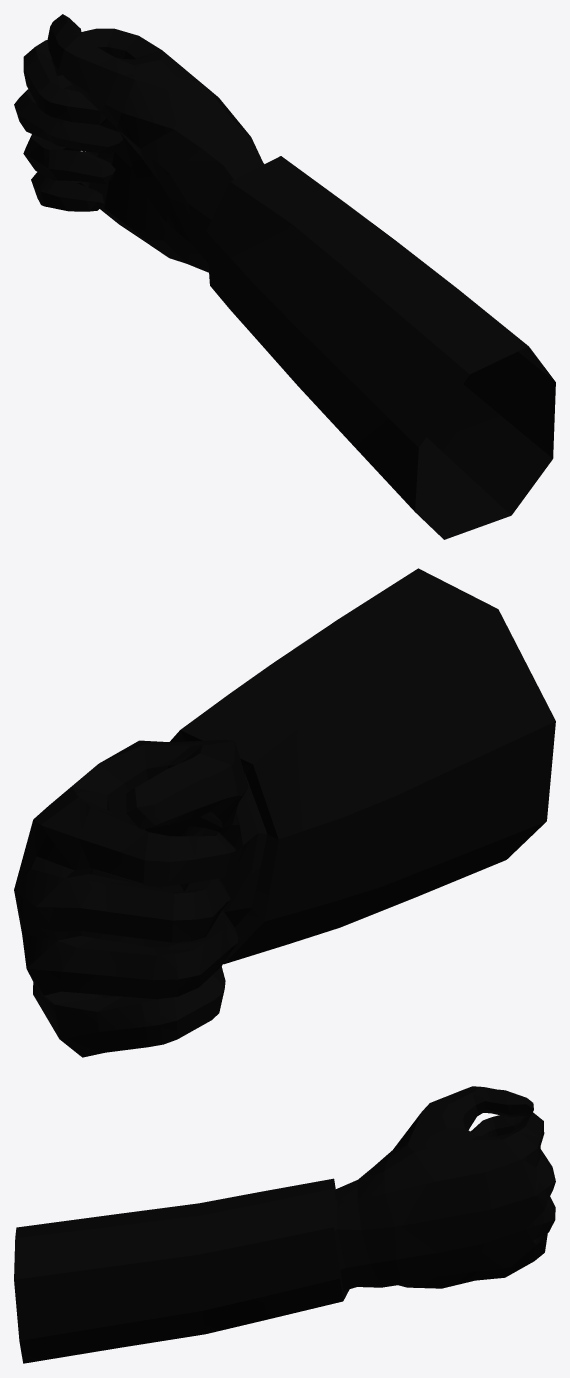
File: HandAxe.obj
3 views of the same model, one above another, from view 1: azimuth 30°, elevation 25°; view 2: azimuth 150°, elevation 25°; view 3: azimuth 270°, elevation 25° (orthographic). The views are drawn at different scales.
Parts seen in each view (by area): view 1: Hand polySurface1; view 2: Hand polySurface1; view 3: Hand polySurface1.
Boxes of the visible parts, box(x1,y1,x2,y2) form: Hand polySurface1: box(14, 14, 555, 539); Hand polySurface1: box(14, 568, 555, 1057); Hand polySurface1: box(14, 1086, 555, 1363).
Bounding box in the file's own units: 0.4877 × 0.6879 × 1.43.
1 material, 1 textured.
